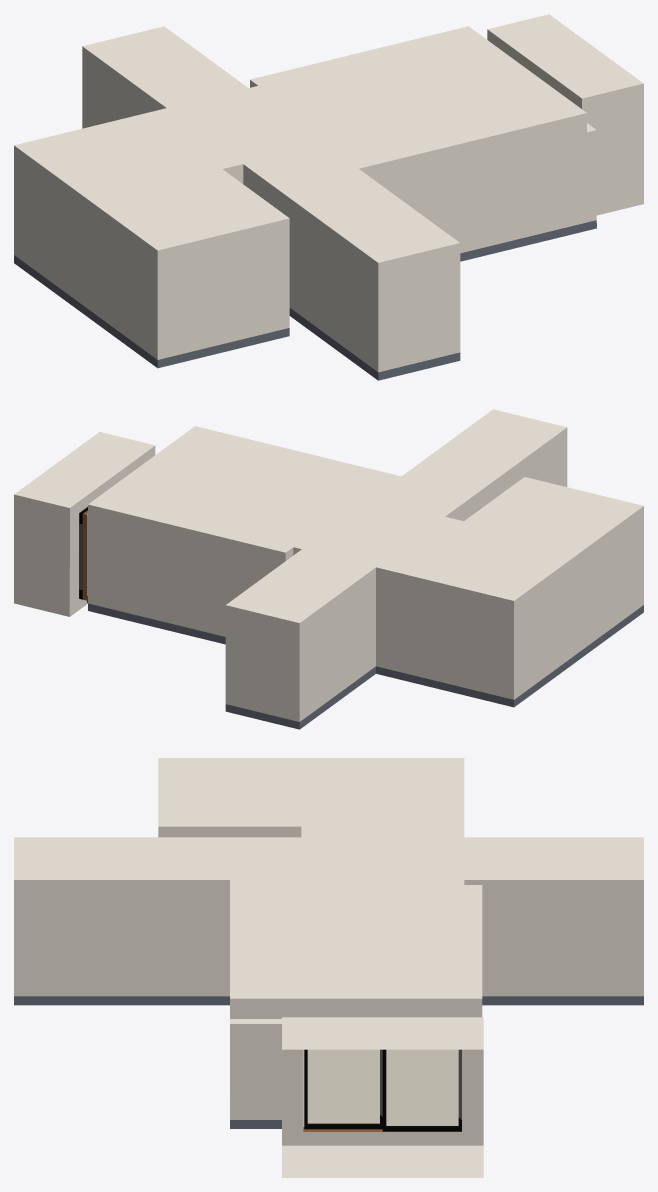
File: LvRm_1.FBX
3 views of the same model, one above another, from view 1: azimuth 30°, elevation 25°; view 2: azimuth 150°, elevation 25°; view 3: azimuth 270°, elevation 25° (orthographic). The views are drawn at different scales.
Parts seen in each view (by area): view 1: Box003; view 2: Box003; view 3: Box003, Object001, Object002.
Part boxes in pixels (x1,y1,x2,y2): Box003: (14, 14, 643, 380); Box003: (14, 409, 643, 729); Box003: (14, 758, 643, 1177); Object001: (382, 1049, 461, 1131); Object002: (304, 1049, 382, 1129).
Size of the model in its own units: 515 by 116 by 485.
2 materials, 2 textured.
